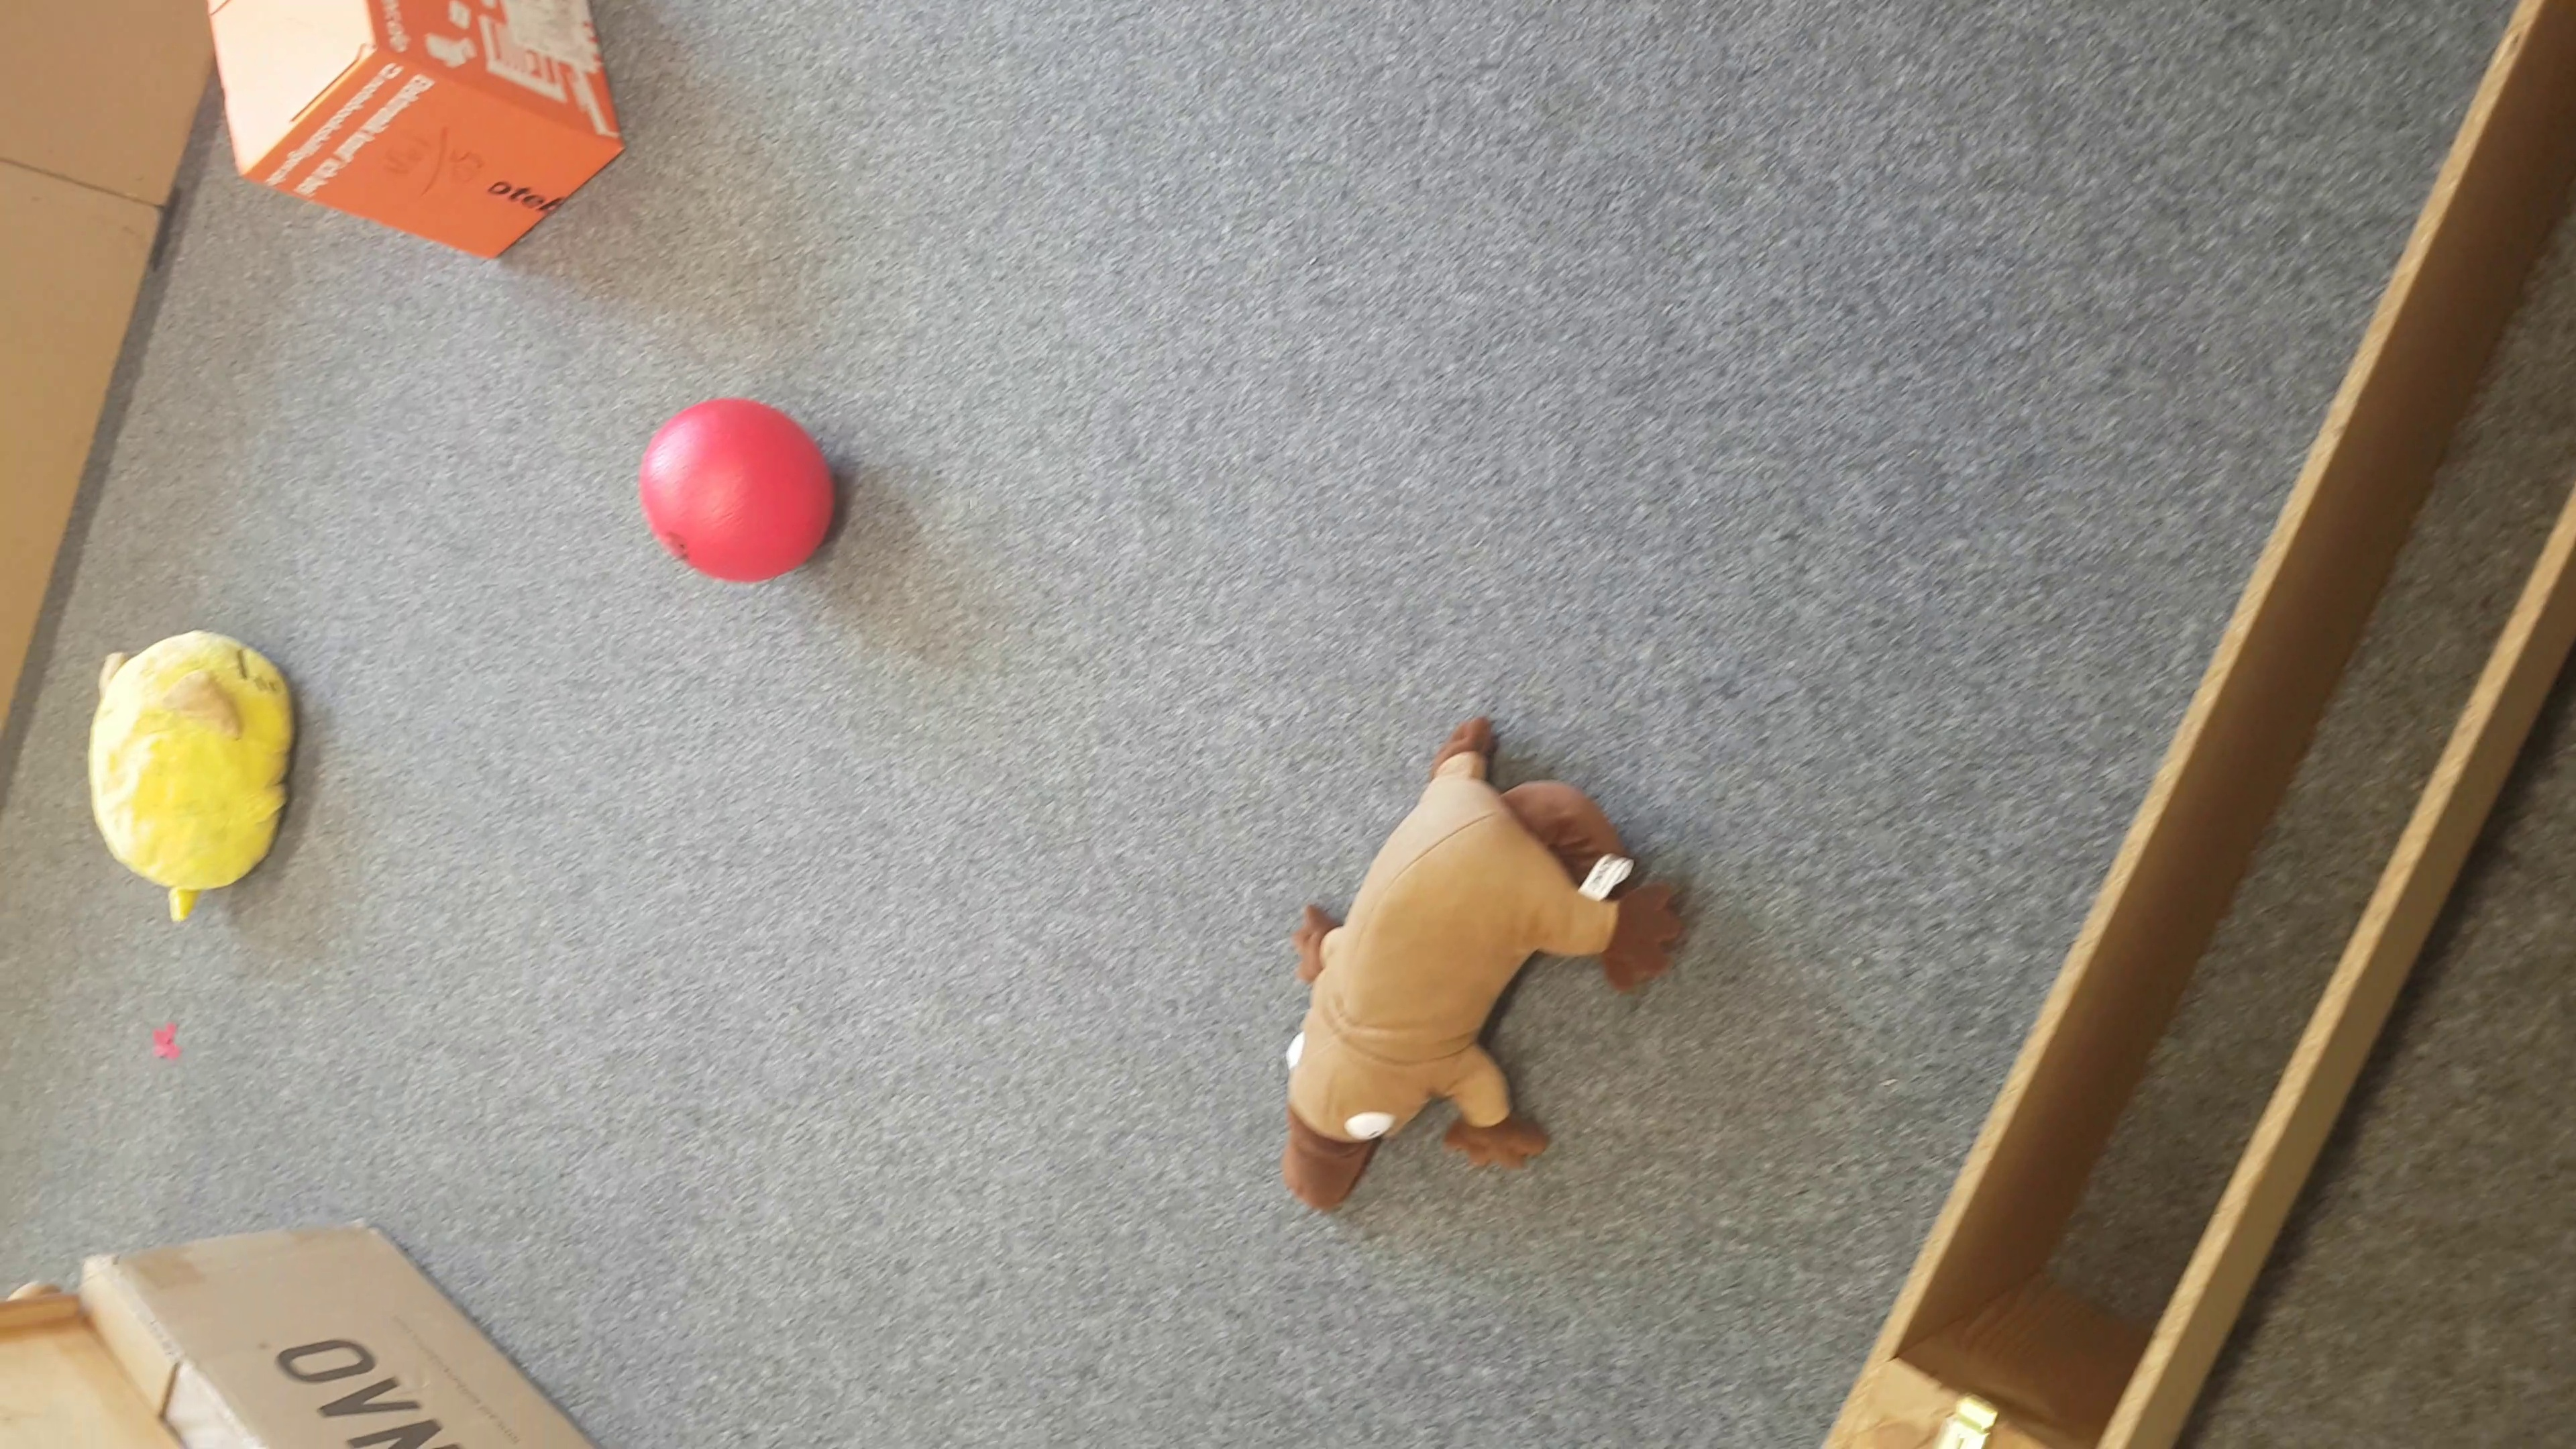grasp: (1284, 718, 1683, 1212), (88, 630, 297, 925)
kick: (637, 396, 840, 579)
push: (203, 4, 625, 258)
